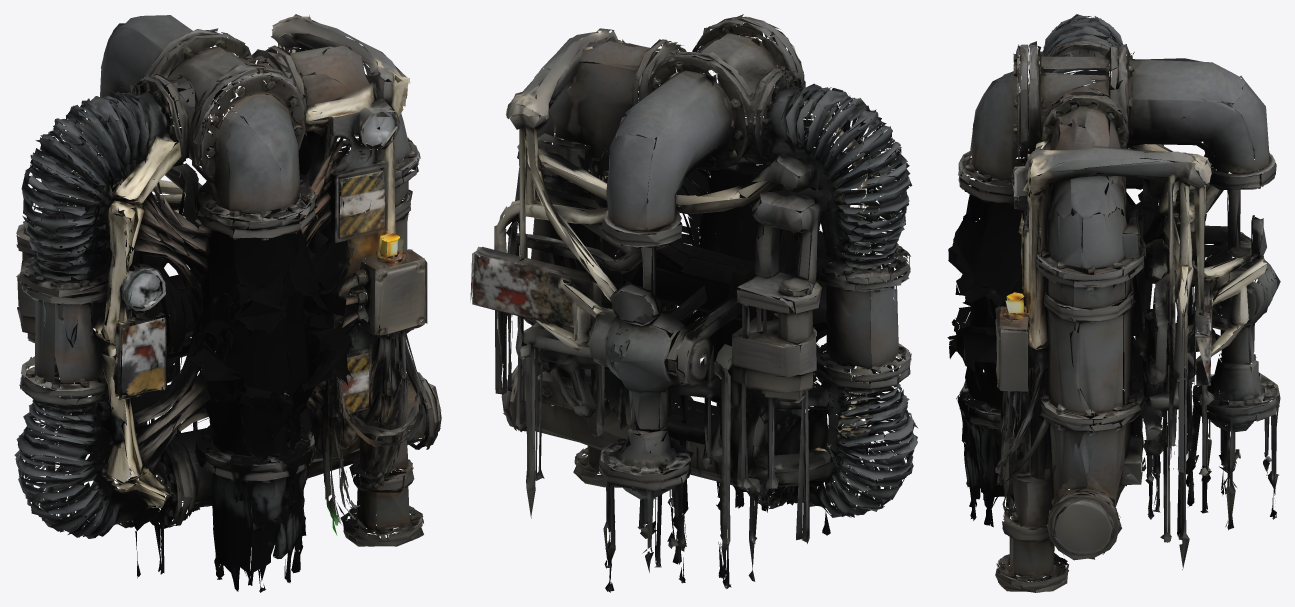
File: ind_fuel_rod_cask.glb
3 renders of one model, left to right at view 1: azimuth 30°, elevation 25°; view 2: azimuth 150°, elevation 25°; view 3: azimuth 270°, elevation 25°, orthographic. The views are drawn at different scales.
Parts seen in each view (by area): view 1: node_0; view 2: node_0; view 3: node_0.
Part boxes in pixels (x1,y1,x2,y2): node_0: [14, 14, 441, 592]; node_0: [470, 14, 917, 592]; node_0: [947, 14, 1280, 592].
Size of the model in its own units: 0.8117 by 0.9561 by 0.6168.
Materials: 1 (1 with a texture image).
